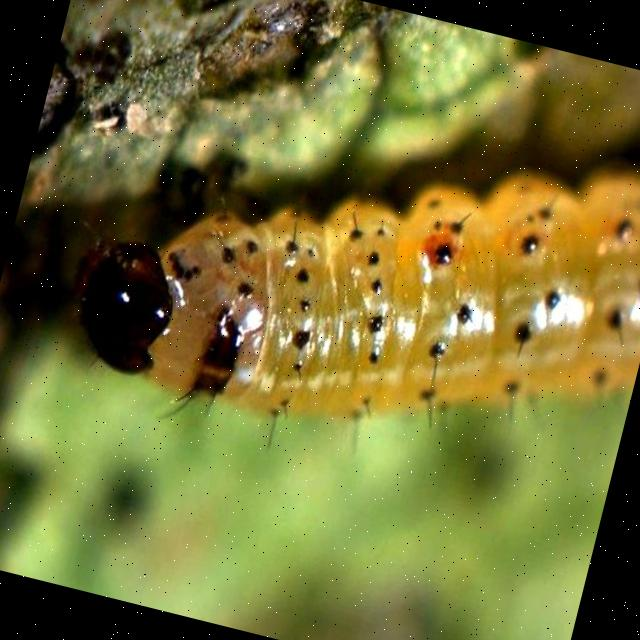worm: (45, 44, 640, 535), (54, 226, 193, 386)
